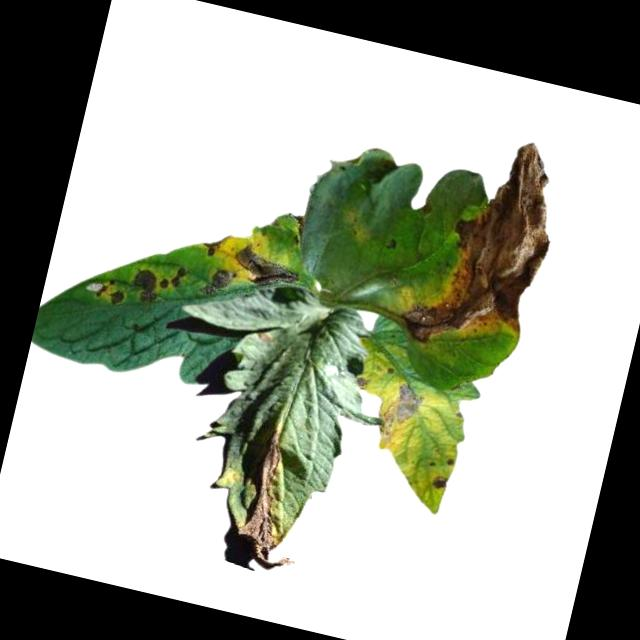Early_blight: (396, 121, 572, 365), (230, 421, 322, 574), (228, 238, 304, 298), (375, 376, 428, 440), (127, 264, 162, 304), (200, 261, 235, 301), (94, 272, 128, 307), (196, 227, 226, 262), (159, 261, 188, 293), (429, 470, 449, 491)
